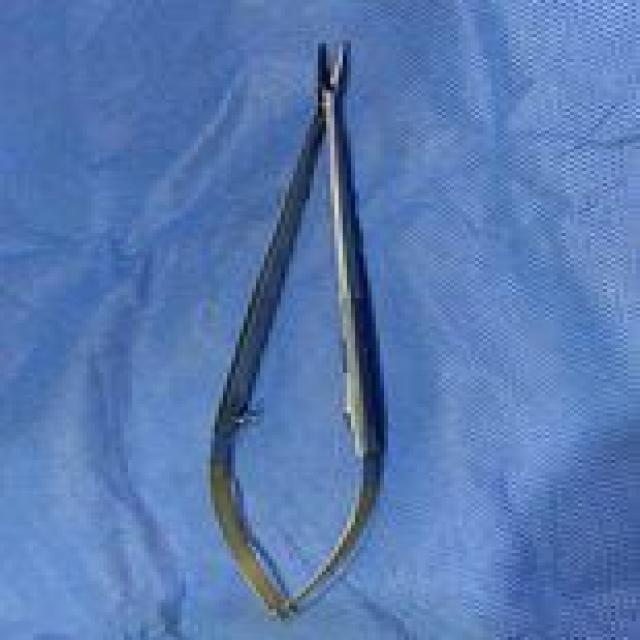Castroviejo: (202, 34, 396, 628)
